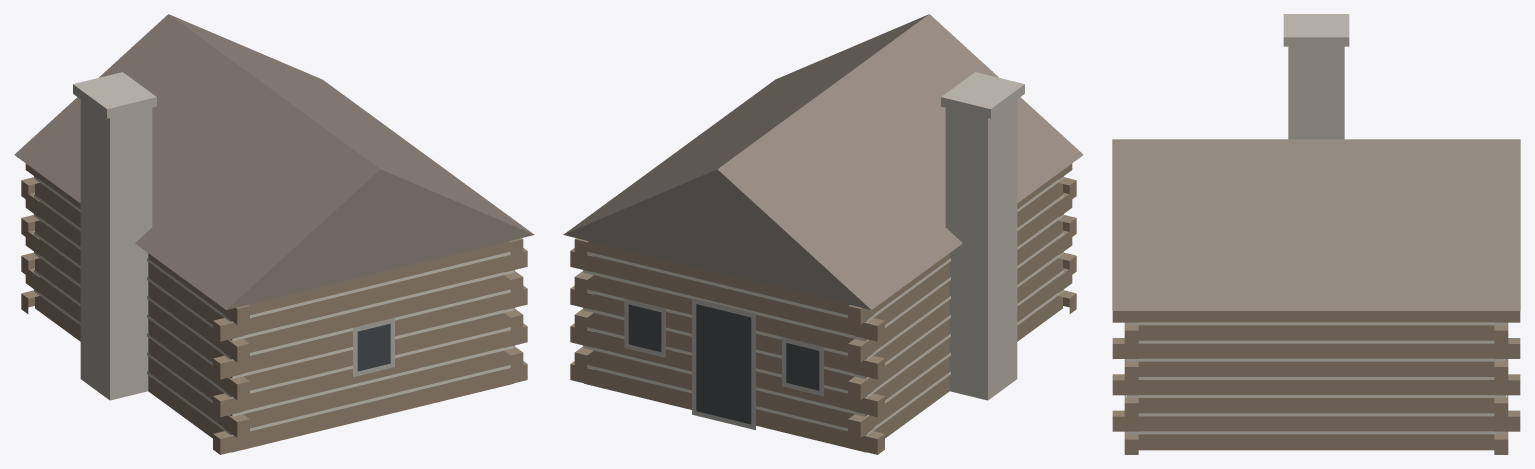
The model's file is recon_1835_north_d1_053__inferred_1835.glb.
3 renders of one model, left to right at view 1: azimuth 30°, elevation 25°; view 2: azimuth 150°, elevation 25°; view 3: azimuth 270°, elevation 25°, orthographic. The views are drawn at different scales.
Visible parts, largest first — view 1: recon_1835_north_d1_053__inferred_1835; view 2: recon_1835_north_d1_053__inferred_1835; view 3: recon_1835_north_d1_053__inferred_1835.
Boxes of the visible parts, box(x1,y1,x2,y2) form: recon_1835_north_d1_053__inferred_1835: box(14, 14, 534, 454); recon_1835_north_d1_053__inferred_1835: box(563, 14, 1083, 454); recon_1835_north_d1_053__inferred_1835: box(1112, 14, 1520, 454).
Size of the model in its own units: 6.39 by 5.37 by 6.93.
